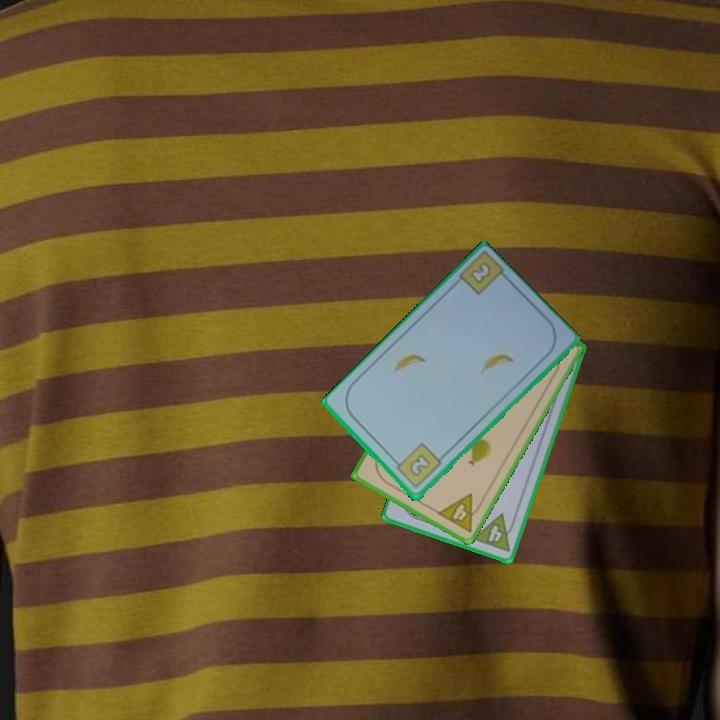2b: (390, 440, 444, 492), (466, 259, 494, 287)
4p: (433, 490, 487, 536), (469, 510, 519, 555)
